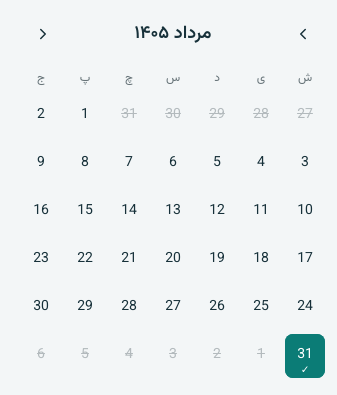
it: availability calendar › navigates Jalali months from the calendar heading controls
expect the text "مرداد ۱۴۰۵" is shown: met, box x1=134 y1=22 x2=212 y2=46
Click the button named "ماه بعد" at (43, 34), box x1=21 y1=12 x2=65 y2=56
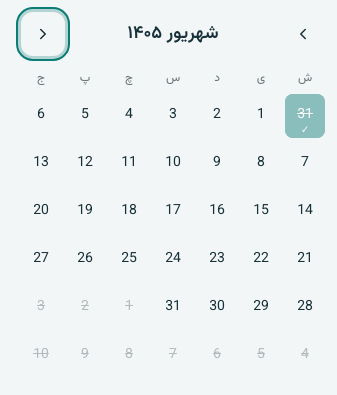
expect the text "شهریور ۱۴۰۵" is shown: met, box x1=128 y1=22 x2=218 y2=46
